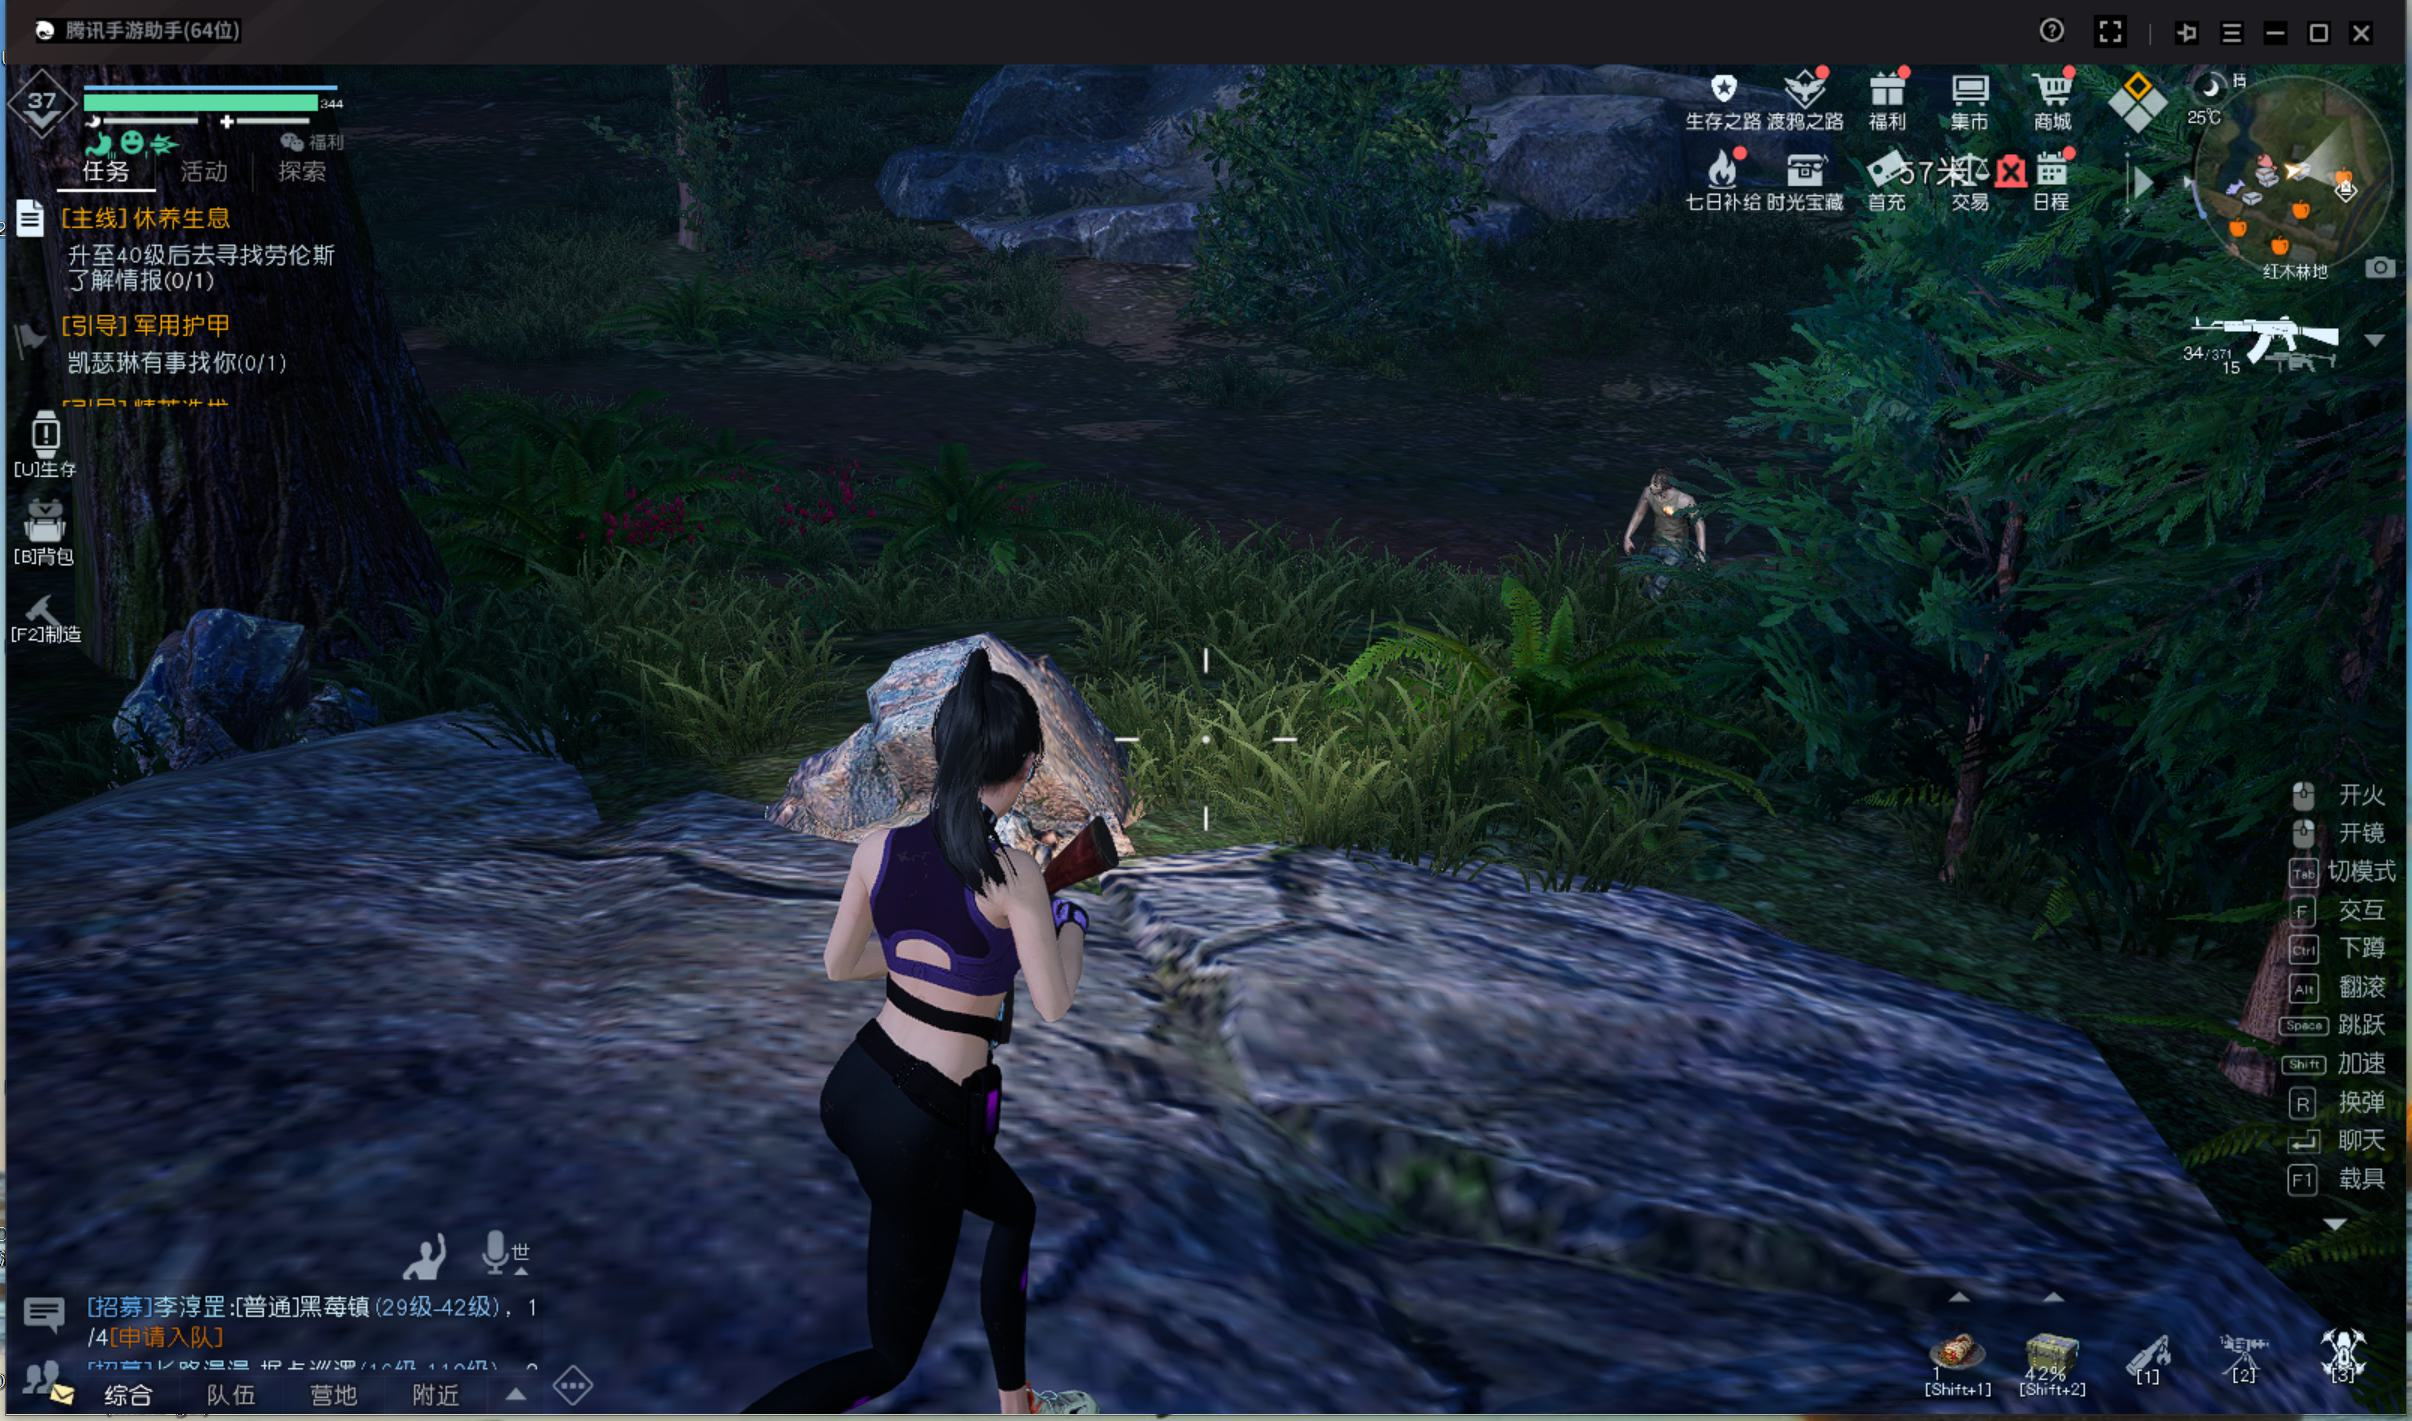stone: (802, 614, 1127, 826), (122, 584, 360, 770)
